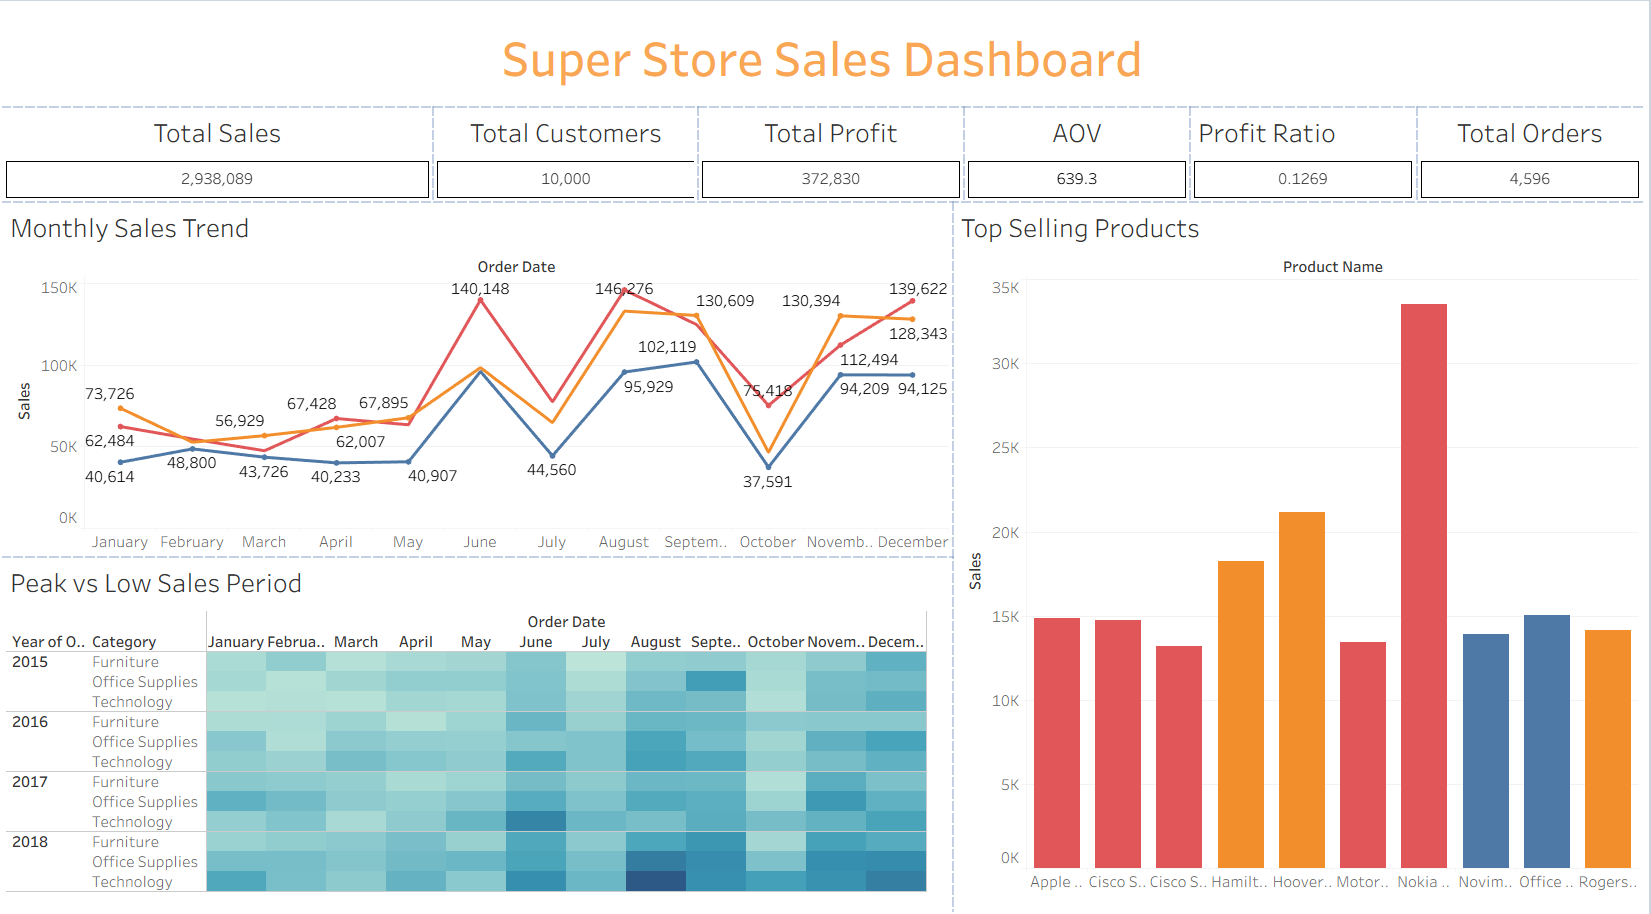

Layout of this report page (visuals, bound fields, positions):
{"tool":"tableau","page":{"name":"Dashboard 1","canvas":[1000,1000],"units":"permille","ordinal":0},"visuals":[{"type":"legend","title":"Peak vs Low Sales Period","param":"[federated.0y9y8i21ayybd6180b4q91holth1].[sum:Sales:qk]","box":[4.8,8.7,99.8,79.3]},{"type":"text","box":[104.7,8.7,890.5,108.6]},{"type":"legend","title":"Monthly Sales Trend","param":"[federated.0y9y8i21ayybd6180b4q91holth1].[none:Category:nk]","box":[4.8,88,99.8,101]},{"type":"worksheet","title":"Total Sales","mark":"Automatic","box":[104.7,117.3,160.2,103.2]},{"type":"worksheet","title":"Total Customers","mark":"Automatic","box":[264.9,117.3,160.3,103.2]},{"type":"worksheet","title":"Total Profit","mark":"Automatic","box":[425.2,117.3,160.3,103.2]},{"type":"worksheet","title":"AOV","mark":"Automatic","box":[585.4,117.3,136.6,103.2]},{"type":"worksheet","title":"Profit Ratio","mark":"Automatic","box":[722,117.3,136.6,103.2]},{"type":"worksheet","title":"Total Orders","mark":"Automatic","box":[858.6,117.3,136.6,103.2]},{"type":"worksheet","title":"Monthly Sales Trend","mark":"Automatic","rows":["Sales"],"cols":["Order Date"],"box":[104.7,220.4,474,385.4]},{"type":"worksheet","title":"Top Selling Products","mark":"Automatic","rows":["Sales"],"cols":["Product Name"],"box":[578.7,220.4,416.5,770.9]},{"type":"worksheet","title":"Peak vs Low Sales Period","mark":"Automatic","rows":["Order Date","Category"],"cols":["Order Date"],"box":[104.7,605.9,474,385.4]}]}

Visuals, with their boxes on the dashboard's canvas, which has no fixed pixel size, in thousandths of its width and height (x1, y1, x2, y2). These are canvas units, not pixel positions in the 1651x914 screenshot, which may show the page scaled, cropped or inside an application window:
"Peak vs Low Sales Period" legend: BBox(5, 9, 105, 88)
text: BBox(105, 9, 995, 117)
"Monthly Sales Trend" legend: BBox(5, 88, 105, 189)
"Total Sales" worksheet: BBox(105, 117, 265, 220)
"Total Customers" worksheet: BBox(265, 117, 425, 220)
"Total Profit" worksheet: BBox(425, 117, 586, 220)
"AOV" worksheet: BBox(585, 117, 722, 220)
"Profit Ratio" worksheet: BBox(722, 117, 859, 220)
"Total Orders" worksheet: BBox(859, 117, 995, 220)
"Monthly Sales Trend" worksheet: BBox(105, 220, 579, 606)
"Top Selling Products" worksheet: BBox(579, 220, 995, 991)
"Peak vs Low Sales Period" worksheet: BBox(105, 606, 579, 991)
